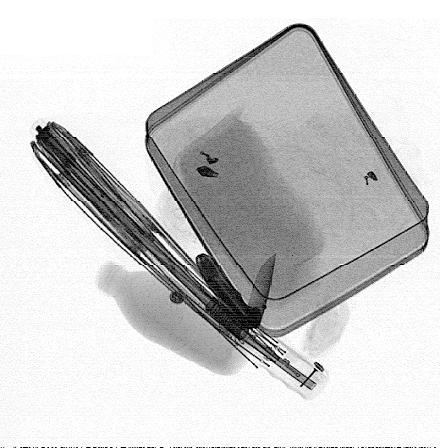Knife: (194, 250, 278, 332)
